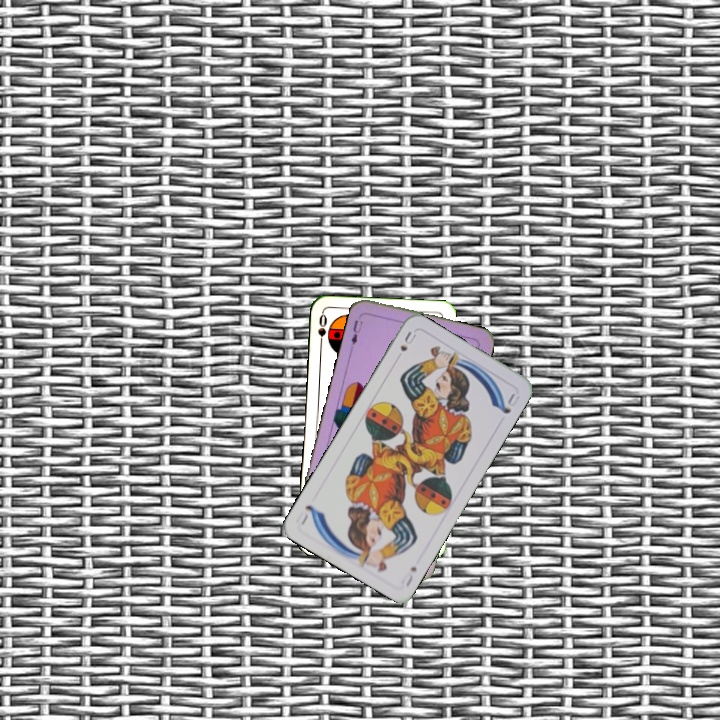EU: (347, 311, 366, 351)
SO: (314, 310, 330, 350)
SU: (396, 327, 419, 354), (402, 562, 419, 589)
